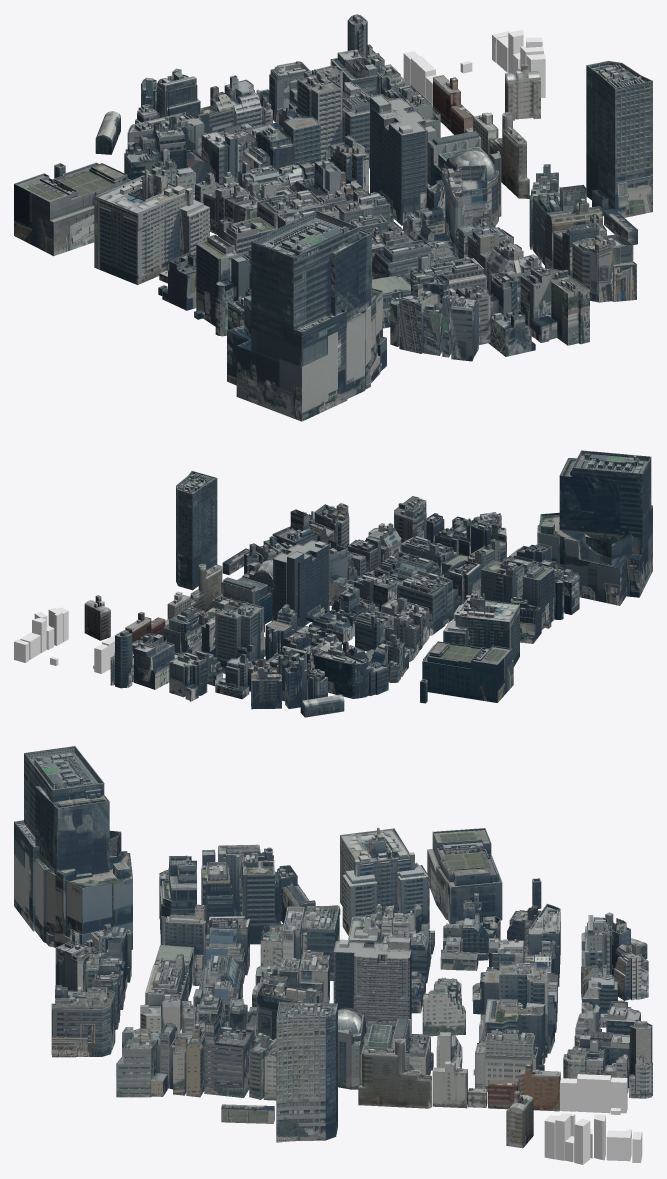
File: building_-1_-3.glb
The picture shows the model from 3 angles, top to bottom: view 1: azimuth 30°, elevation 25°; view 2: azimuth 150°, elevation 25°; view 3: azimuth 270°, elevation 25°; orthographic projection. The views are drawn at different scales.
Size of the model in its own units: 383 by 111 by 387.
5 materials, 4 textured.
